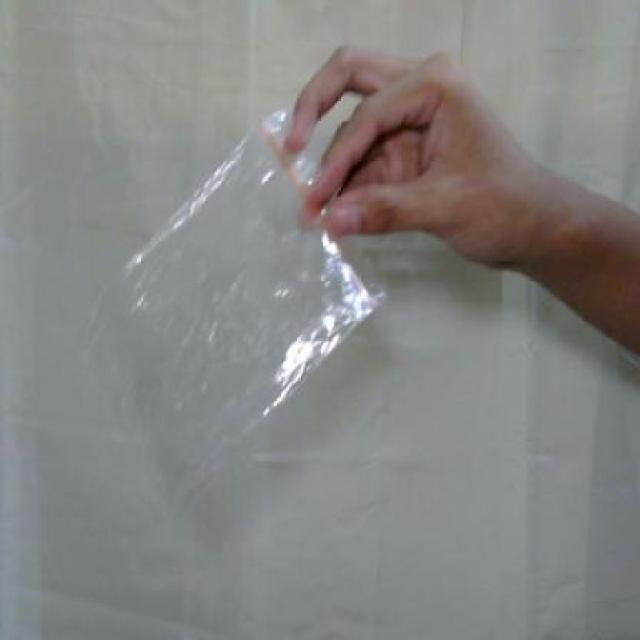Plastic: (68, 100, 396, 537)
